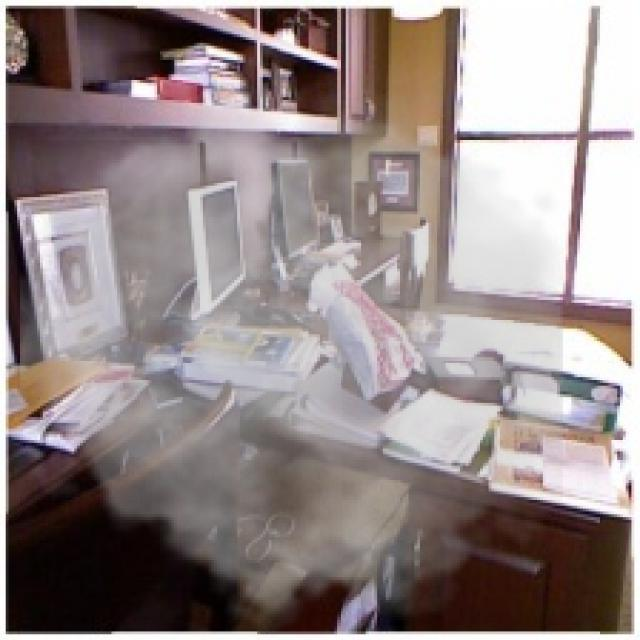Smoke: (20, 74, 563, 637)
